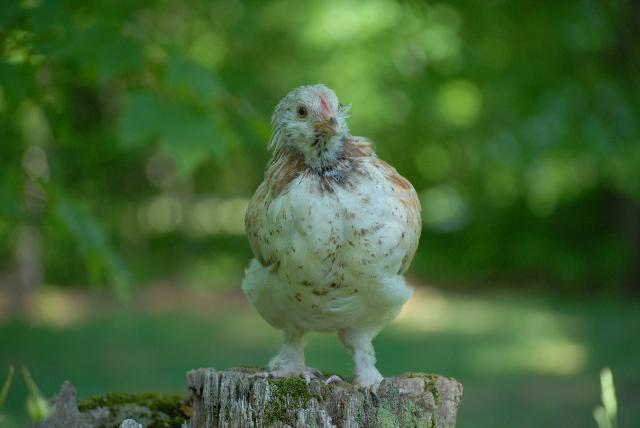Chicken: (240, 83, 422, 392)
